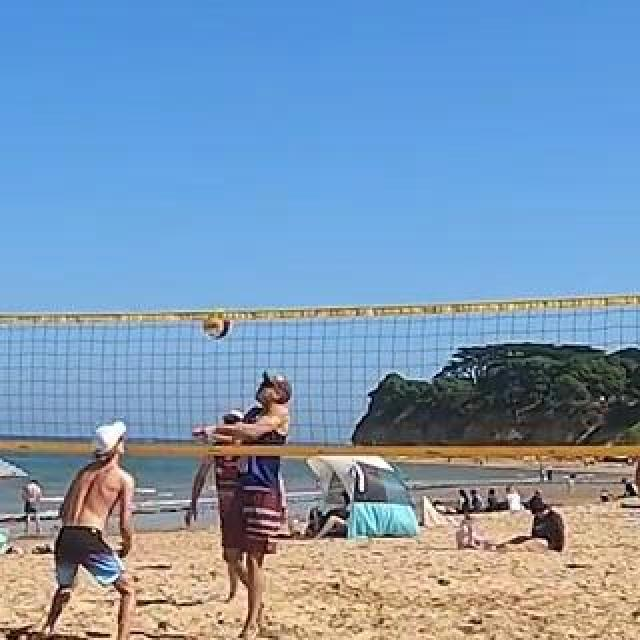volleyball: (203, 312, 231, 338)
